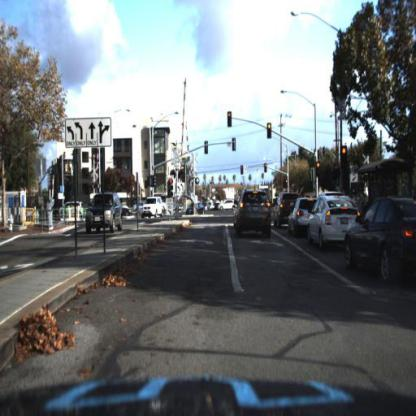car: (343, 197, 416, 289), (306, 193, 361, 253), (231, 188, 275, 241), (310, 192, 348, 253), (85, 191, 123, 234), (285, 197, 314, 236), (291, 195, 311, 235), (275, 191, 294, 231), (139, 196, 166, 221), (275, 192, 292, 228), (142, 198, 167, 220), (217, 195, 239, 215), (185, 198, 205, 219), (186, 200, 202, 216), (219, 196, 231, 217), (123, 203, 135, 219)
pedestrian: (411, 197, 416, 230)
trafficLight-Red: (340, 146, 350, 171), (167, 177, 177, 201), (240, 161, 248, 182), (316, 160, 324, 181), (267, 121, 275, 141), (169, 177, 176, 198), (267, 120, 275, 137), (224, 111, 232, 125), (241, 160, 248, 176), (265, 160, 272, 176), (341, 146, 348, 161), (316, 162, 322, 179), (264, 162, 269, 178), (286, 176, 290, 188)
trafficLight-RedLeft: (228, 111, 234, 127)
